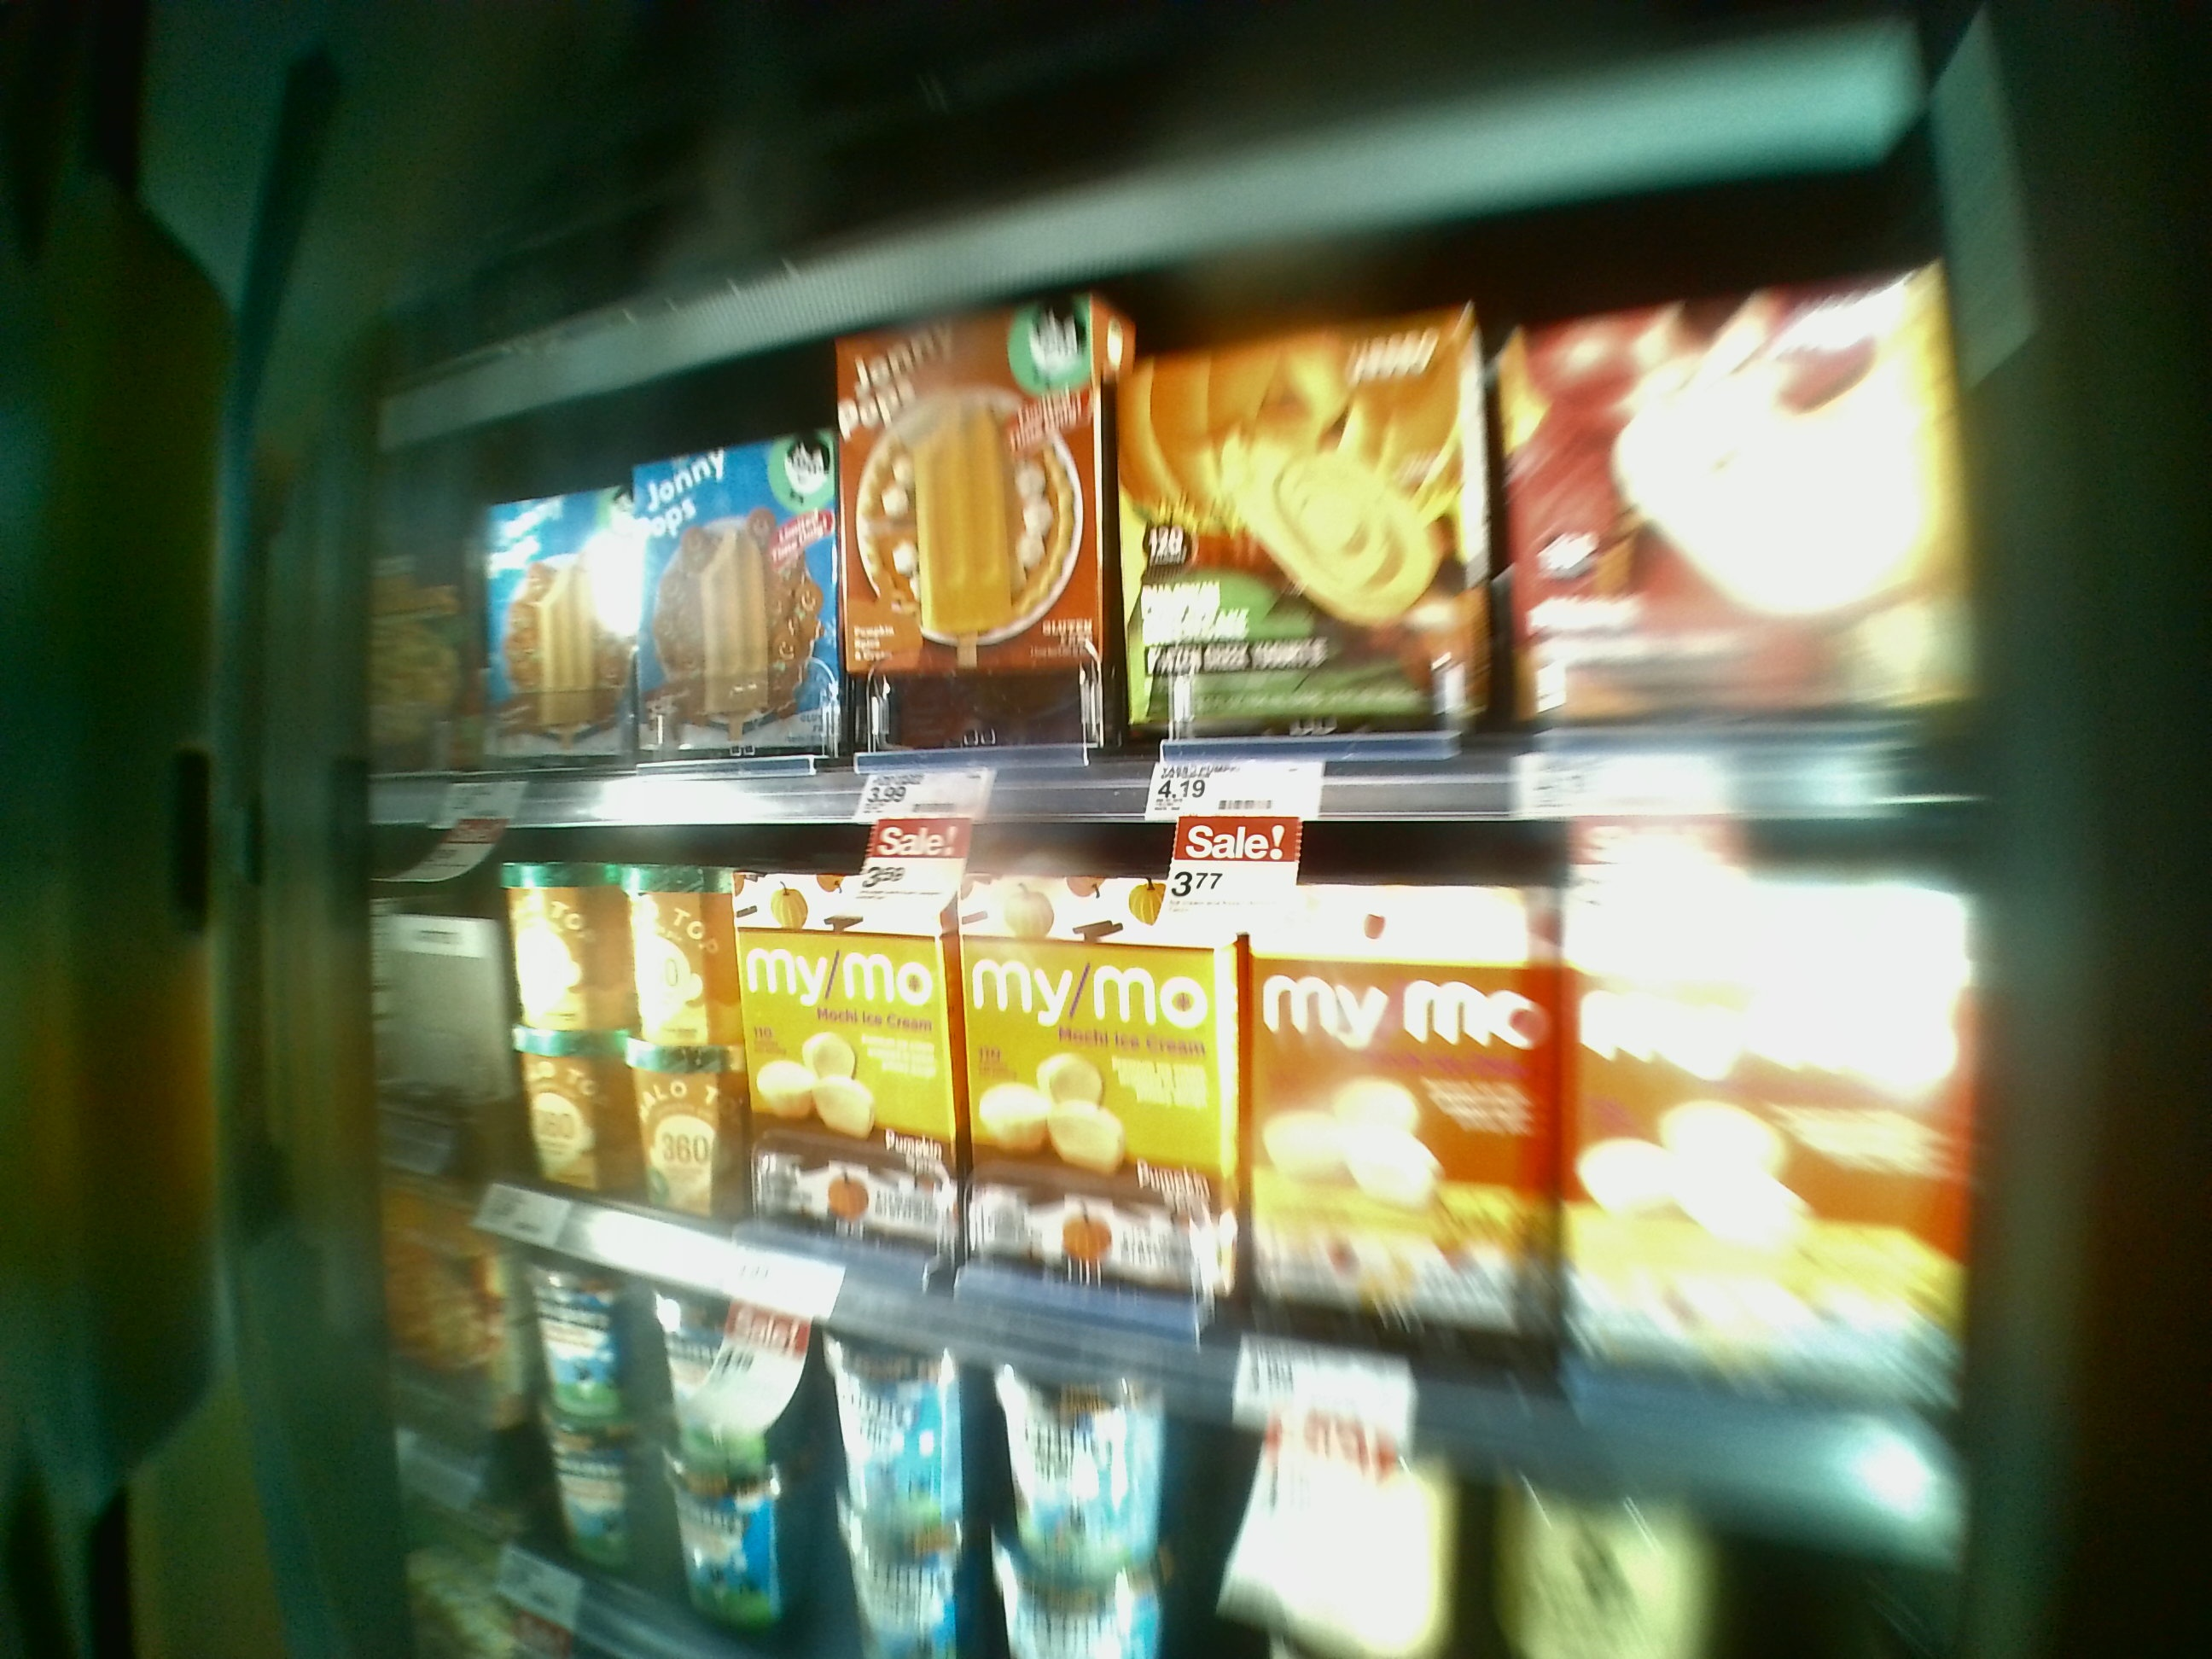shelf: (294, 791, 1966, 1492), (324, 272, 1966, 796)
